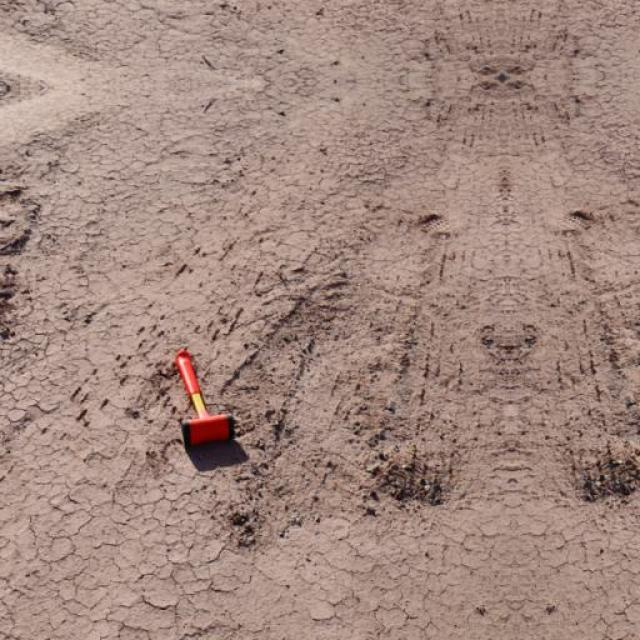mallet: (172, 347, 234, 448)
